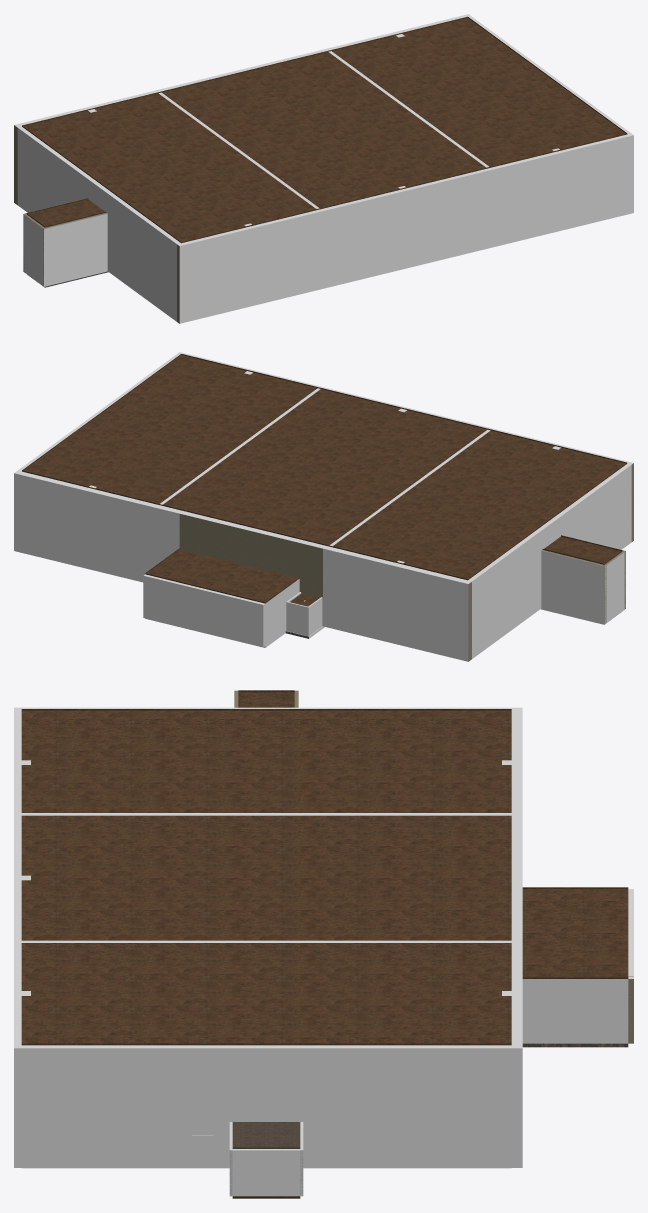
3 views of the same model, one above another, from view 1: azimuth 30°, elevation 25°; view 2: azimuth 150°, elevation 25°; view 3: azimuth 270°, elevation 25° (orthographic). The views are drawn at different scales.
Visible parts, largest first — view 1: S_concrete_smooth, COL, S_concrete_wall; view 2: S_concrete_smooth, COL, S_concrete_wall; view 3: S_concrete_smooth, COL, S_metal_plate2.
Part boxes in pixels (bbox=[...]): S_concrete_smooth: bbox=[22, 16, 627, 243]; COL: bbox=[14, 14, 633, 323]; S_concrete_wall: bbox=[14, 125, 179, 323]; S_concrete_smooth: bbox=[22, 354, 627, 606]; COL: bbox=[14, 352, 633, 661]; S_concrete_wall: bbox=[179, 463, 633, 661]; S_concrete_smooth: bbox=[21, 690, 628, 1045]; COL: bbox=[14, 707, 633, 1196]; S_metal_plate2: bbox=[232, 1122, 300, 1148].
Bounding box in the file's own units: 52.35 × 7.3 × 32.9.
67 materials, 22 textured.
